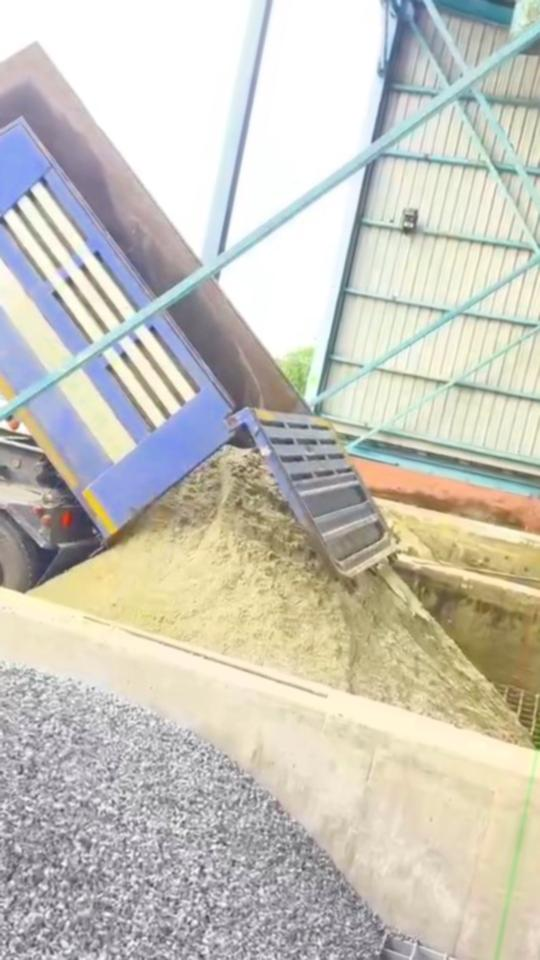gravel: (0, 659, 391, 960)
sand: (32, 449, 529, 743), (385, 509, 436, 560)
